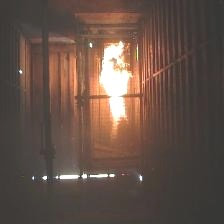fire: (96, 39, 137, 142)
